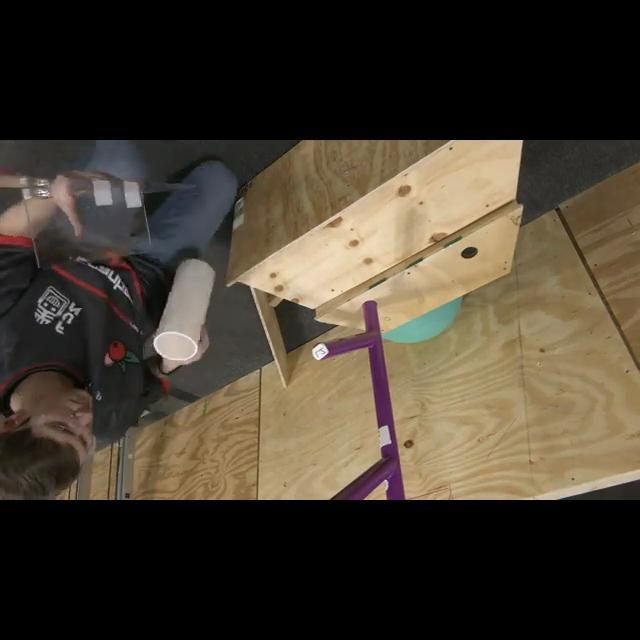CORAL: (152, 258, 216, 362)
